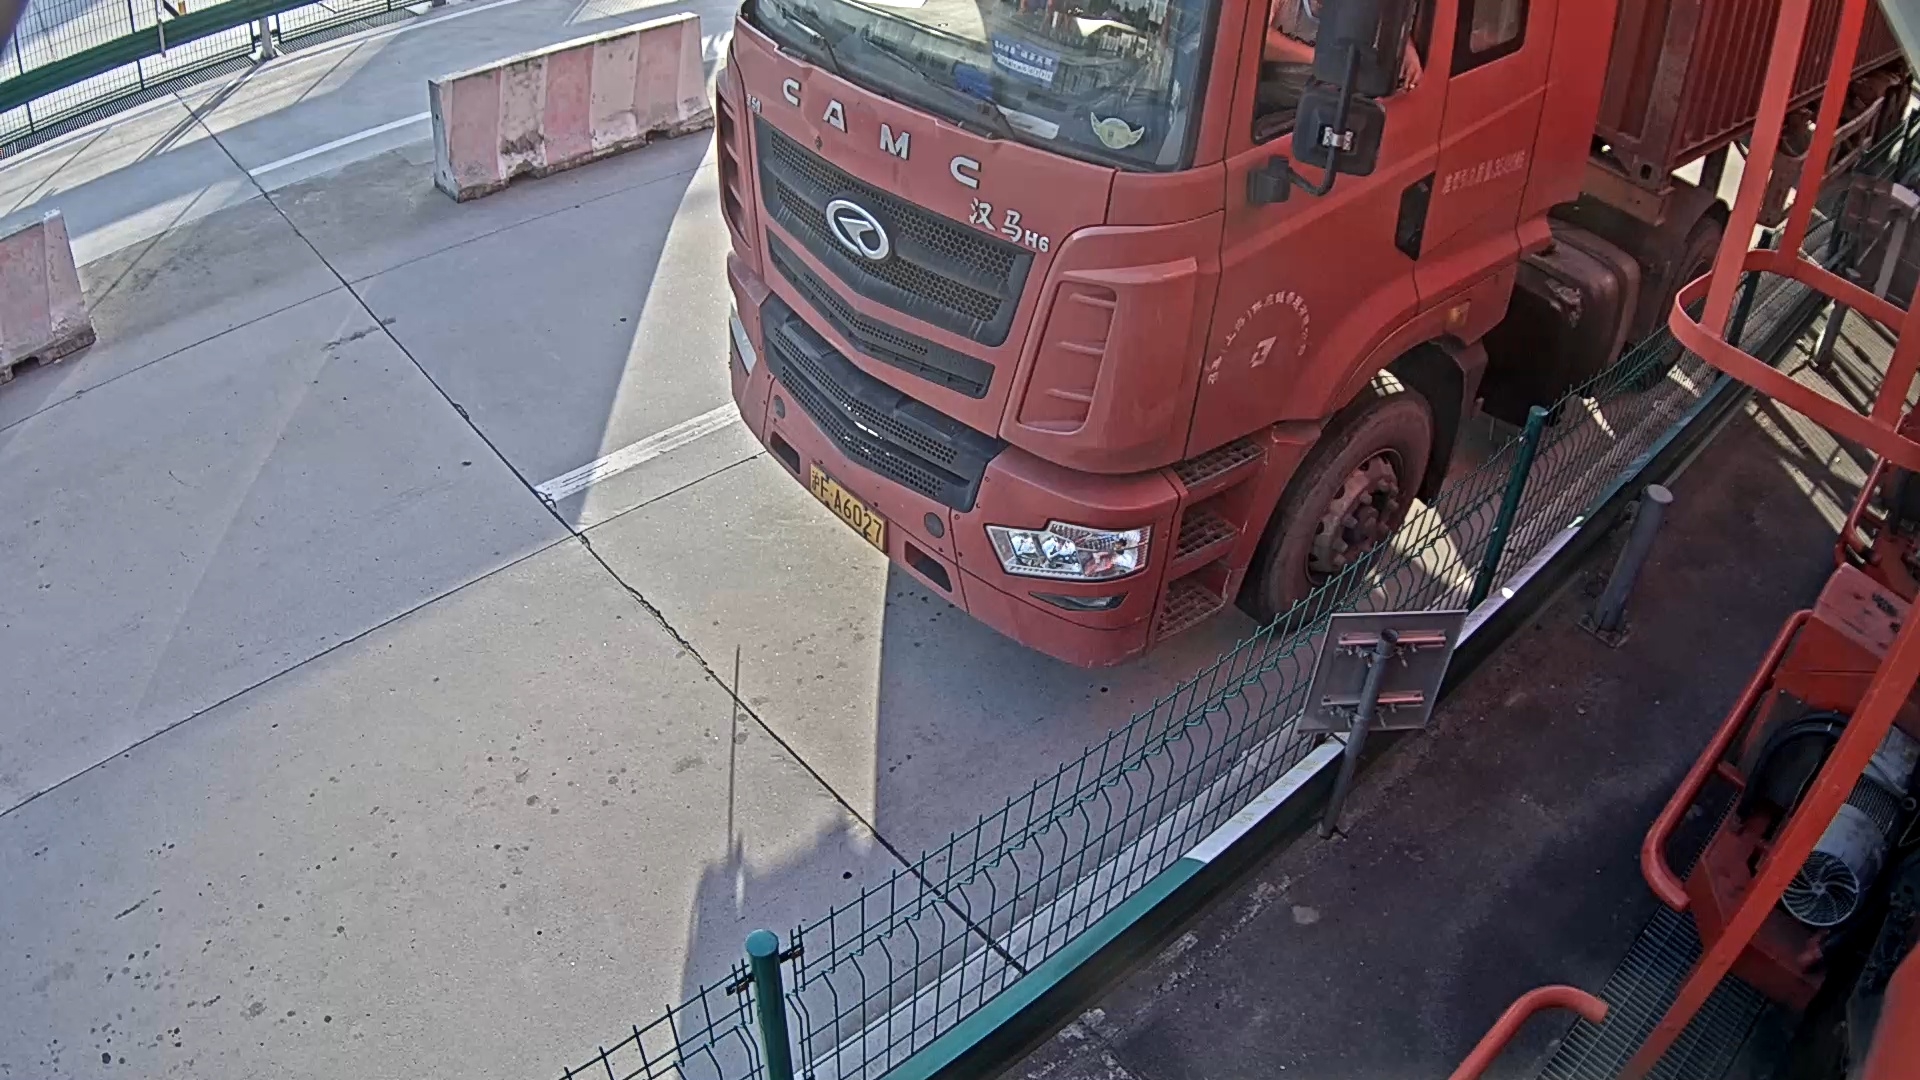head: (720, 15, 1339, 748)
plate: (810, 459, 900, 575)
